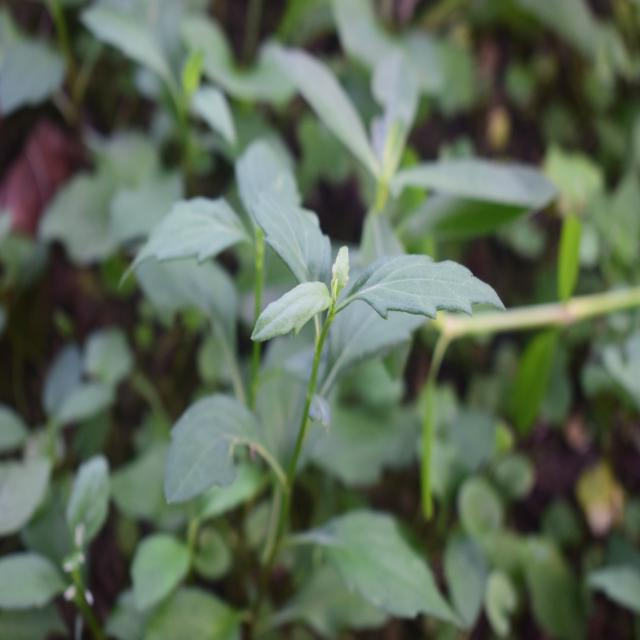Indian aster: (158, 144, 471, 572)
